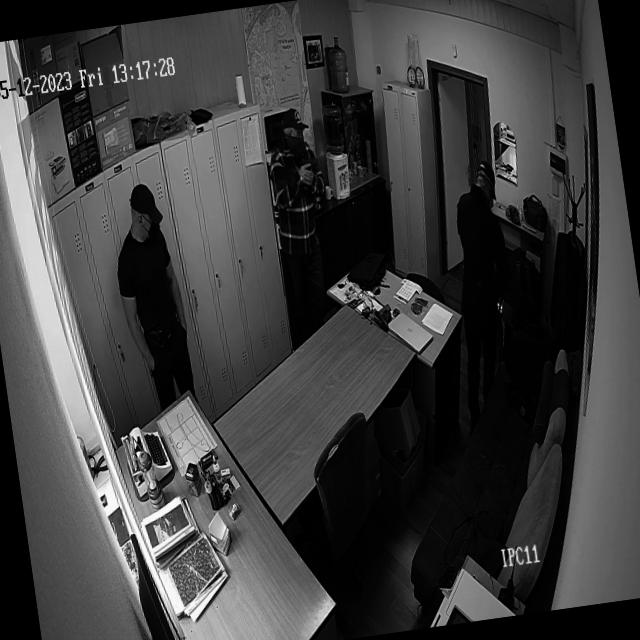gun: (300, 154, 320, 173)
person: (113, 178, 206, 408), (443, 156, 522, 404)
person with a gun: (258, 109, 344, 334)
